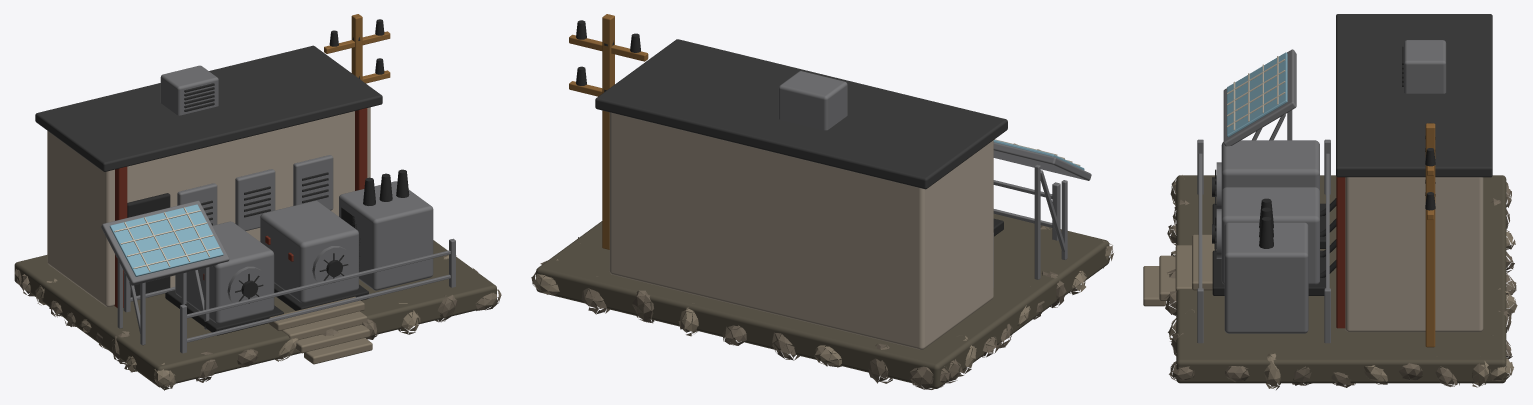
File: automated-power-station.glb
3 renders of one model, left to right at view 1: azimuth 30°, elevation 25°; view 2: azimuth 150°, elevation 25°; view 3: azimuth 270°, elevation 25°, orthographic. The views are drawn at different scales.
Parts seen in each view (by area): view 1: automated-power-station-farm-metal, automated-power-station-farm-plaster, automated-power-station-farm-roof-slate, automated-power-station-farm-stone-dark, automated-power-station-farm-window, automated-power-station-farm-stone, automated-power-station-farm-accent-blue, automated-power-station-farm-rock, automated-power-station-farm-barn-red-dark, automated-power-station-farm-wood-dark, automated-power-station-farm-trim; view 2: automated-power-station-farm-plaster, automated-power-station-farm-roof-slate, automated-power-station-farm-stone-dark, automated-power-station-farm-metal, automated-power-station-farm-rock, automated-power-station-farm-wood-dark, automated-power-station-farm-stone, automated-power-station-farm-window; view 3: automated-power-station-farm-metal, automated-power-station-farm-stone-dark, automated-power-station-farm-roof-slate, automated-power-station-farm-plaster, automated-power-station-farm-stone, automated-power-station-farm-rock, automated-power-station-farm-window, automated-power-station-farm-accent-blue, automated-power-station-farm-wood-dark, automated-power-station-farm-barn-red-dark, automated-power-station-farm-trim.
Boxes of the visible parts, left/top/right/bottom form: automated-power-station-farm-metal: left=101, top=65, right=455, bottom=353; automated-power-station-farm-plaster: left=47, top=107, right=370, bottom=306; automated-power-station-farm-roof-slate: left=35, top=45, right=382, bottom=171; automated-power-station-farm-stone-dark: left=14, top=240, right=496, bottom=387; automated-power-station-farm-window: left=127, top=19, right=409, bottom=335; automated-power-station-farm-stone: left=35, top=254, right=456, bottom=390; automated-power-station-farm-accent-blue: left=109, top=204, right=223, bottom=276; automated-power-station-farm-rock: left=14, top=268, right=501, bottom=382; automated-power-station-farm-barn-red-dark: left=114, top=108, right=367, bottom=307; automated-power-station-farm-wood-dark: left=324, top=14, right=390, bottom=83; automated-power-station-farm-trim: left=114, top=207, right=219, bottom=271; automated-power-station-farm-plaster: left=609, top=112, right=993, bottom=349; automated-power-station-farm-roof-slate: left=595, top=39, right=1007, bottom=189; automated-power-station-farm-stone-dark: left=536, top=214, right=1109, bottom=388; automated-power-station-farm-metal: left=778, top=71, right=1091, bottom=287; automated-power-station-farm-rock: left=578, top=225, right=1066, bottom=389; automated-power-station-farm-wood-dark: left=569, top=14, right=648, bottom=249; automated-power-station-farm-stone: left=531, top=240, right=1113, bottom=376; automated-power-station-farm-window: left=576, top=20, right=1003, bottom=236; automated-power-station-farm-metal: left=1197, top=40, right=1446, bottom=343; automated-power-station-farm-stone-dark: left=1176, top=175, right=1506, bottom=383; automated-power-station-farm-roof-slate: left=1336, top=14, right=1492, bottom=177; automated-power-station-farm-plaster: left=1345, top=177, right=1483, bottom=332; automated-power-station-farm-stone: left=1143, top=175, right=1517, bottom=389; automated-power-station-farm-rock: left=1164, top=182, right=1516, bottom=387; automated-power-station-farm-window: left=1212, top=46, right=1435, bottom=295; automated-power-station-farm-accent-blue: left=1227, top=52, right=1287, bottom=137; automated-power-station-farm-wood-dark: left=1425, top=123, right=1435, bottom=347; automated-power-station-farm-barn-red-dark: left=1336, top=177, right=1345, bottom=328; automated-power-station-farm-trim: left=1227, top=56, right=1285, bottom=130.
Size of the model in its own units: 8.5 by 5.17 by 6.94.
